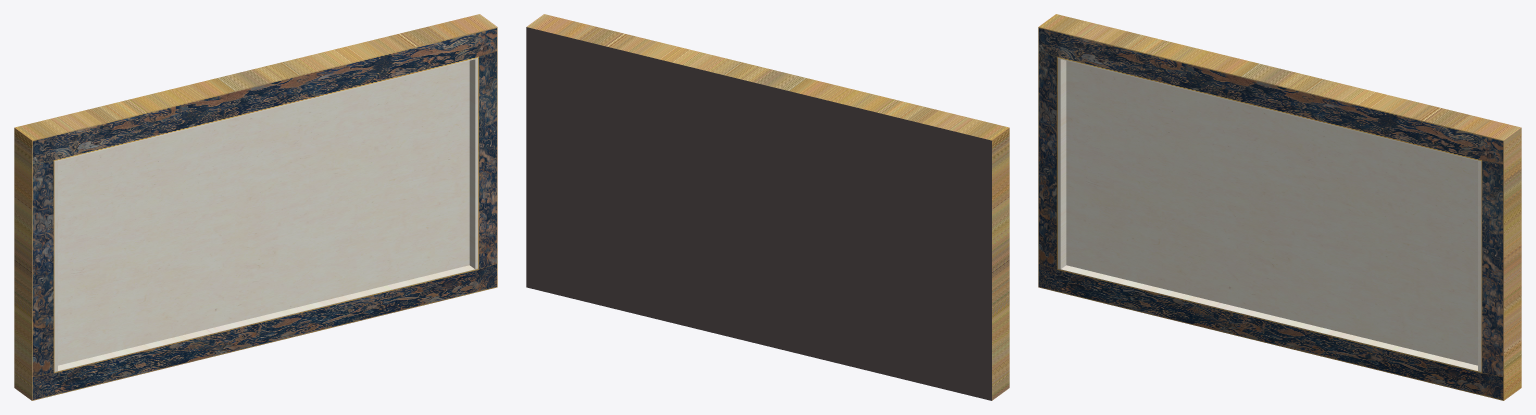
Rendered from panel_title.glb.
3 renders of one model, left to right at view 1: azimuth 30°, elevation 25°; view 2: azimuth 150°, elevation 25°; view 3: azimuth 330°, elevation 25°, orthographic.
Parts seen in each view (by area): view 1: panel_title; view 2: panel_title; view 3: panel_title.
Boxes of the visible parts, x1,y1,x2,y2 form: panel_title: (14,14,497,400); panel_title: (526,14,1009,400); panel_title: (1038,14,1521,400).
Size of the model in its own units: 0.58 by 0.31 by 0.042.
Materials: 1 (1 with a texture image).
